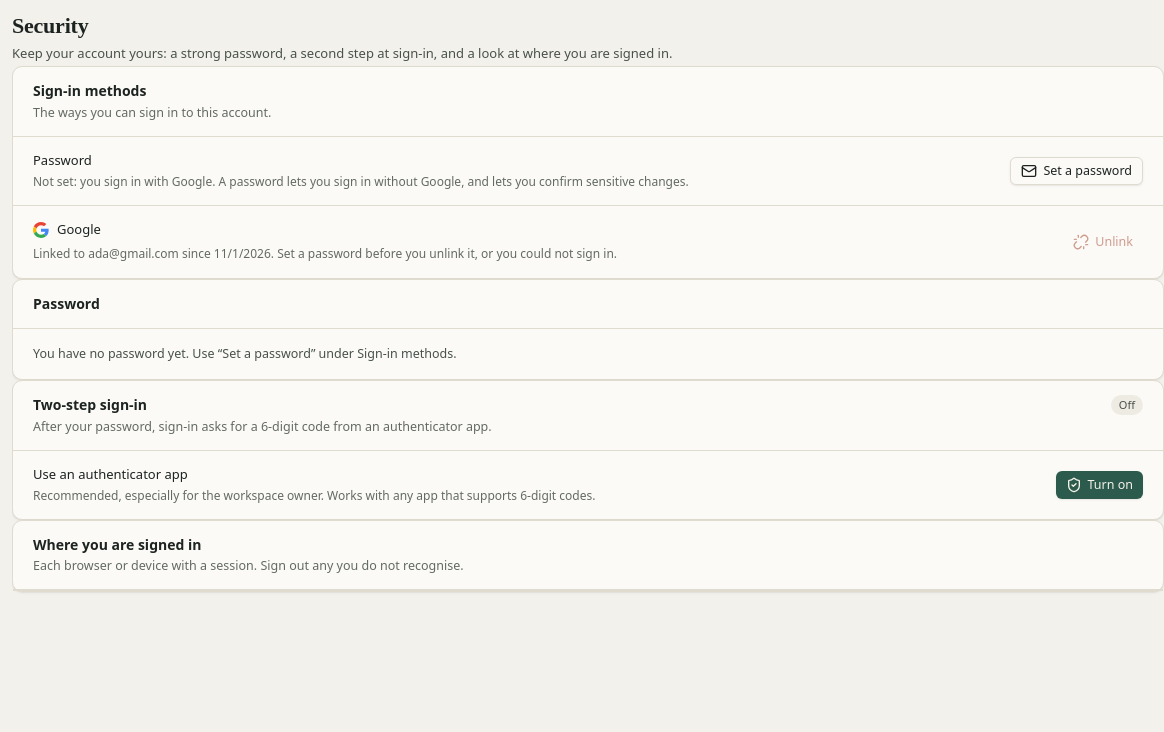
Test case: security settings: sign-in methods › no password, Google linked: offers 'Set a password' by email, and Unlink is disabled
expect the text "Not set: you sign in with Google" is shown: met, box [33,173,689,190]
expect the text "Linked to ada@gmail.com" is shown: met, box [33,245,617,262]
What coordinates should you click on to do the following:
click the button "Set a password"
I would click on:
 (1077, 171)
Its box is [1010,157,1143,185].
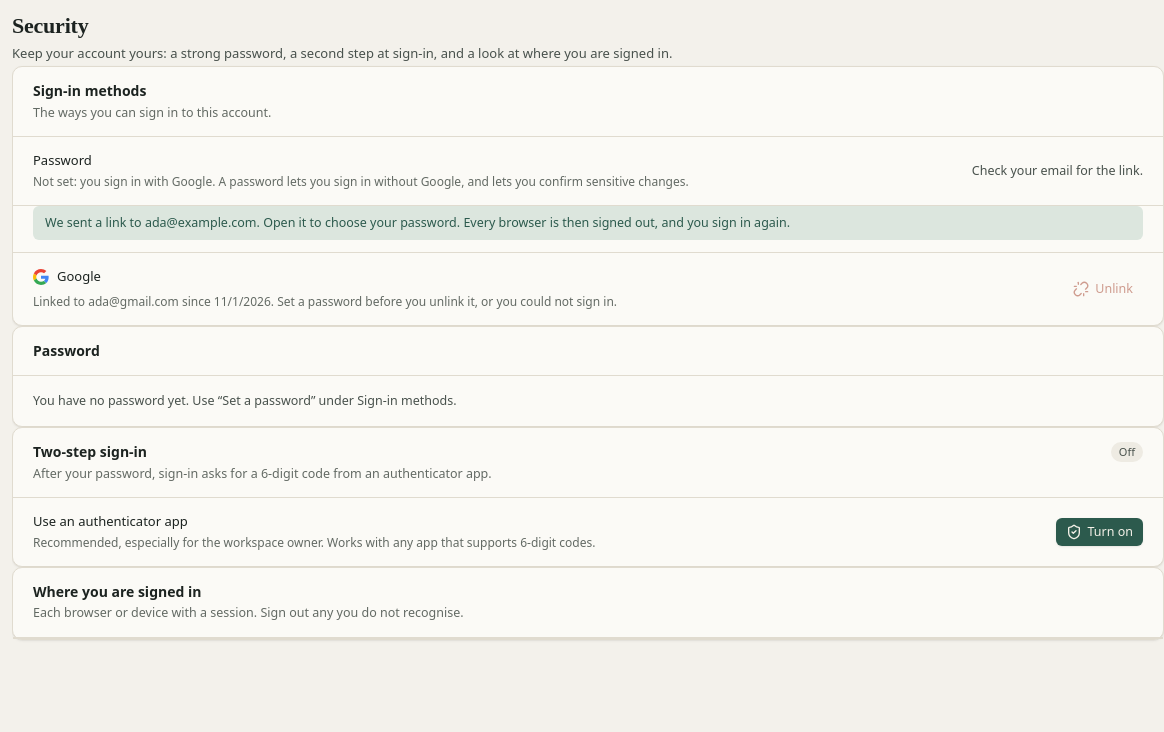
expect the text "We sent a link to ada@example.com" is shown: met, box [33,206,1143,240]
